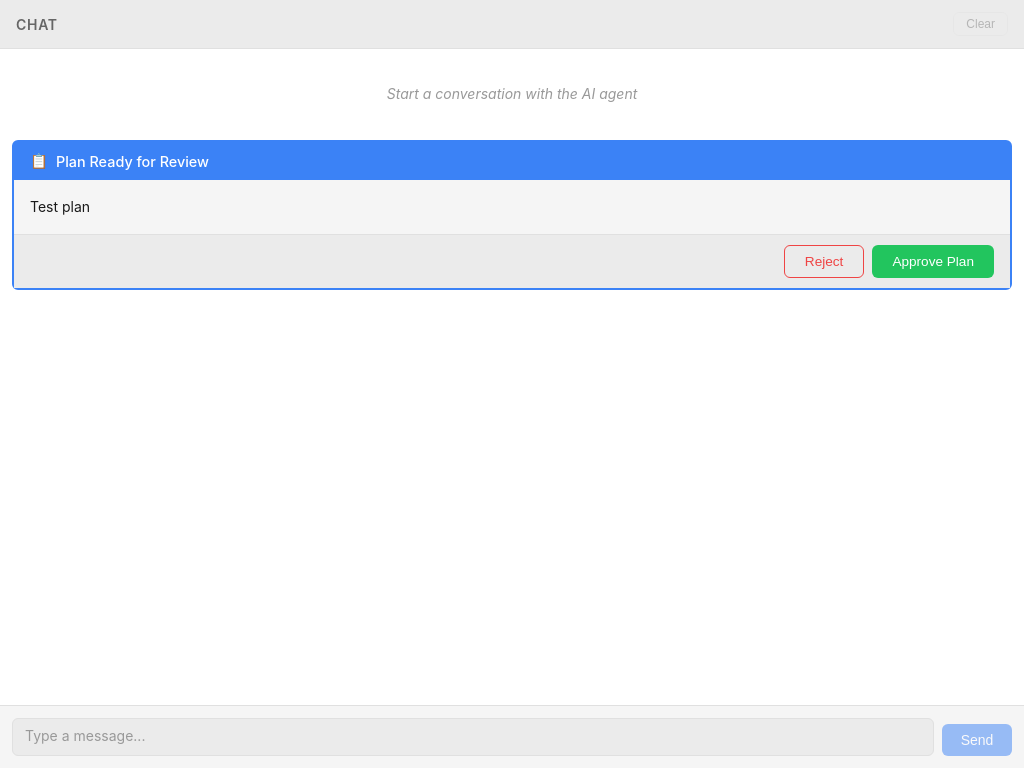
ChatPanel › plan review › shows reject input when reject button is clicked
Click the button "Reject". click: (824, 262)
box: [784,245,864,278]
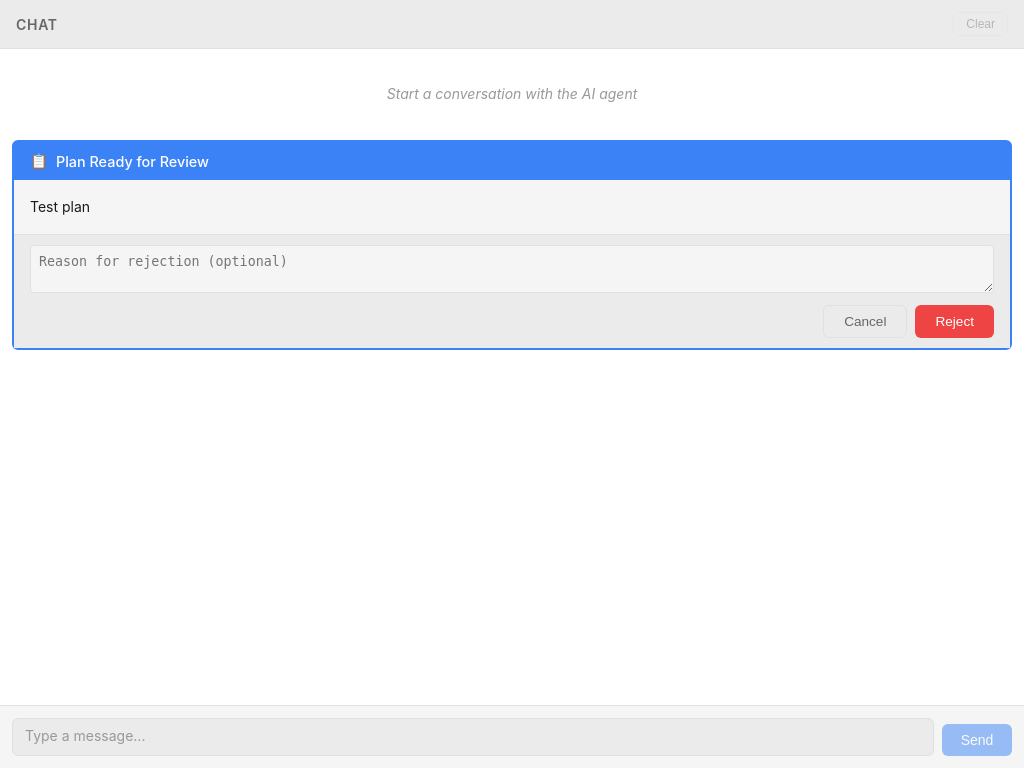
Expected: the text box with placeholder "Reason for rejection (optional)" is shown, [30,245,994,293]
